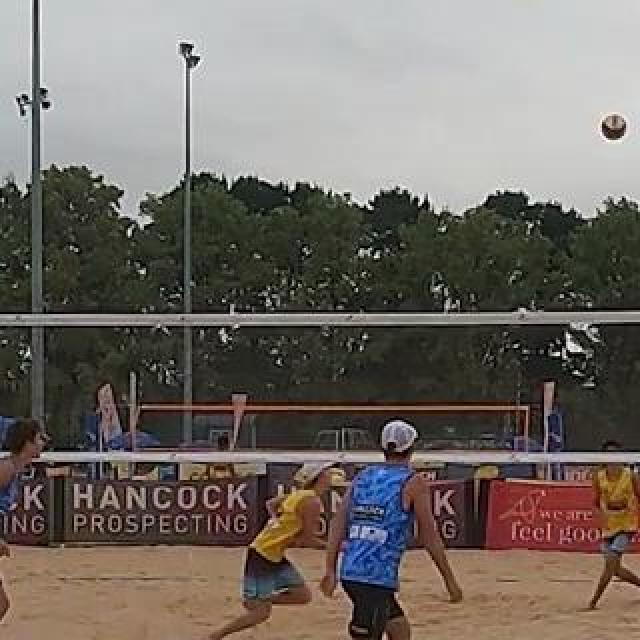volleyball: (600, 115, 628, 141)
